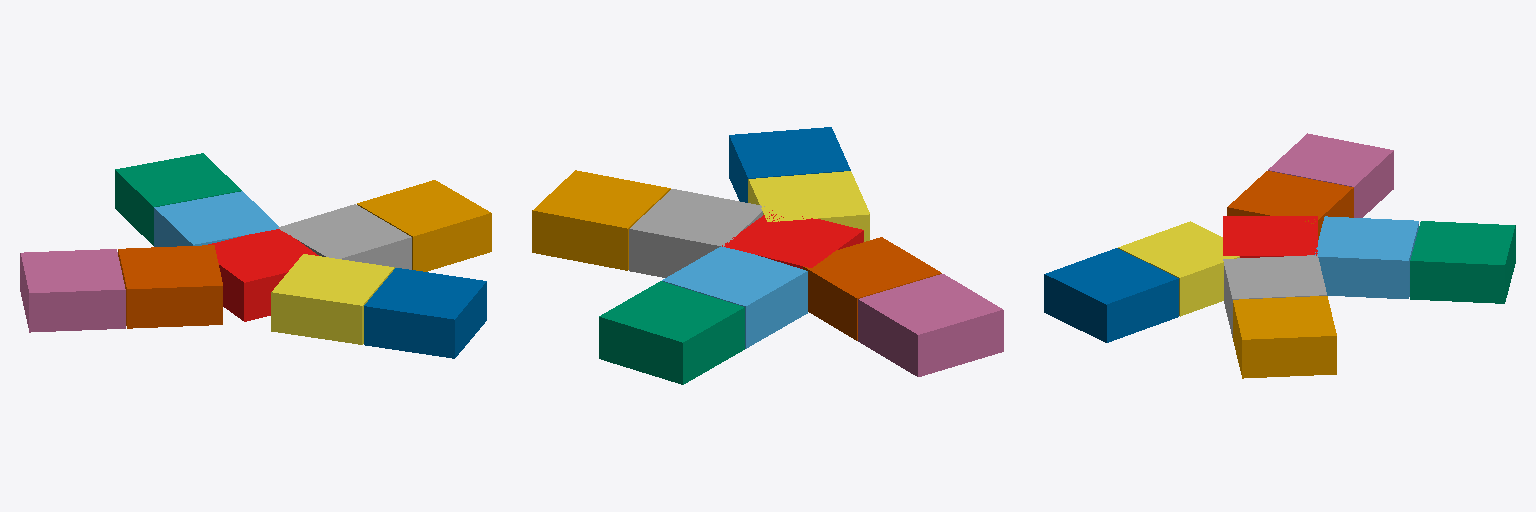
The robot description file, URDF, robot "Model_Models/Model_97.urdf8":
<?xml version='1.0' encoding='UTF-8'?>
<robot name="Model_Models/Model_97.urdf8">
  <link name="base_link">
    <inertial>
      <origin xyz="0.0 0.0 0.0" rpy="0.0 -0.0 0.0"/>
      <mass value="1.0"/>
      <inertia ixx="1.0" ixy="0.0" ixz="0.0" iyy="1.0" iyz="0.0" izz="1.0"/>
    </inertial>
    <visual>
      <geometry>
        <box size="0.67 0.67 0.3 "/>
      </geometry>
      <material name="red"/>
      <origin xyz="0.0 0.0 0.0" rpy="0.0 -0.0 0.0"/>
    </visual>
    <collision>
      <geometry>
        <box size="0.67 0.67 0.3 "/>
      </geometry>
      <origin xyz="0.0 0.0 0.0" rpy="0.0 0.0 0.0"/>
    </collision>
  </link>
  <link name="arm_0_arm1">
    <inertial>
      <origin xyz="0.0 0.34 0.0" rpy="0.0 0.0 0.0"/>
      <mass value="1.0"/>
      <inertia ixx="0.0" ixy="0.0" ixz="0.0" iyy="0.0" iyz="0.0" izz="0.0"/>
    </inertial>
    <visual>
      <geometry>
        <box size="0.67 0.67 0.3 "/>
      </geometry>
      <origin xyz="0.0 0.34 0.0" rpy="0.0 0.0 0.0"/>
    </visual>
    <collision>
      <geometry>
        <box size="0.67 0.67 0.3 "/>
      </geometry>
      <origin xyz="0.0 0.34 0.0" rpy="0.0 0.0 0.0"/>
    </collision>
  </link>
  <link name="arm_0_arm2">
    <inertial>
      <origin xyz="0.0 0.34 0.0" rpy="0.0 0.0 0.0"/>
      <mass value="1.0"/>
      <inertia ixx="0.0" ixy="0.0" ixz="0.0" iyy="0.0" iyz="0.0" izz="0.0"/>
    </inertial>
    <visual>
      <geometry>
        <box size="0.67 0.67 0.3 "/>
      </geometry>
      <origin xyz="0.0 0.34 0.0" rpy="0.0 0.0 0.0"/>
    </visual>
    <collision>
      <geometry>
        <box size="0.67 0.67 0.3 "/>
      </geometry>
      <origin xyz="0.0 0.34 0.0" rpy="0.0 0.0 0.0"/>
    </collision>
  </link>
  <link name="arm_1_arm1">
    <inertial>
      <origin xyz="0.0 0.34 0.0" rpy="0.0 0.0 0.0"/>
      <mass value="1.0"/>
      <inertia ixx="0.0" ixy="0.0" ixz="0.0" iyy="0.0" iyz="0.0" izz="0.0"/>
    </inertial>
    <visual>
      <geometry>
        <box size="0.67 0.67 0.3 "/>
      </geometry>
      <origin xyz="0.0 0.34 0.0" rpy="0.0 0.0 0.0"/>
    </visual>
    <collision>
      <geometry>
        <box size="0.67 0.67 0.3 "/>
      </geometry>
      <origin xyz="0.0 0.34 0.0" rpy="0.0 0.0 0.0"/>
    </collision>
  </link>
  <link name="arm_1_arm2">
    <inertial>
      <origin xyz="0.0 0.34 0.0" rpy="0.0 0.0 0.0"/>
      <mass value="1.0"/>
      <inertia ixx="0.0" ixy="0.0" ixz="0.0" iyy="0.0" iyz="0.0" izz="0.0"/>
    </inertial>
    <visual>
      <geometry>
        <box size="0.67 0.67 0.3 "/>
      </geometry>
      <origin xyz="0.0 0.34 0.0" rpy="0.0 0.0 0.0"/>
    </visual>
    <collision>
      <geometry>
        <box size="0.67 0.67 0.3 "/>
      </geometry>
      <origin xyz="0.0 0.34 0.0" rpy="0.0 0.0 0.0"/>
    </collision>
  </link>
  <link name="arm_3_arm1">
    <inertial>
      <origin xyz="0.0 0.34 0.0" rpy="0.0 0.0 0.0"/>
      <mass value="1.0"/>
      <inertia ixx="0.0" ixy="0.0" ixz="0.0" iyy="0.0" iyz="0.0" izz="0.0"/>
    </inertial>
    <visual>
      <geometry>
        <box size="0.67 0.67 0.3 "/>
      </geometry>
      <origin xyz="0.0 0.34 0.0" rpy="0.0 0.0 0.0"/>
    </visual>
    <collision>
      <geometry>
        <box size="0.67 0.67 0.3 "/>
      </geometry>
      <origin xyz="0.0 0.34 0.0" rpy="0.0 0.0 0.0"/>
    </collision>
  </link>
  <link name="arm_3_arm2">
    <inertial>
      <origin xyz="0.0 0.34 0.0" rpy="0.0 0.0 0.0"/>
      <mass value="1.0"/>
      <inertia ixx="0.0" ixy="0.0" ixz="0.0" iyy="0.0" iyz="0.0" izz="0.0"/>
    </inertial>
    <visual>
      <geometry>
        <box size="0.67 0.67 0.3 "/>
      </geometry>
      <origin xyz="0.0 0.34 0.0" rpy="0.0 0.0 0.0"/>
    </visual>
    <collision>
      <geometry>
        <box size="0.67 0.67 0.3 "/>
      </geometry>
      <origin xyz="0.0 0.34 0.0" rpy="0.0 0.0 0.0"/>
    </collision>
  </link>
  <link name="arm_Permutation_8_arm1">
    <inertial>
      <origin xyz="0.0 0.34 0.0" rpy="0.0 0.0 0.0"/>
      <mass value="1.0"/>
      <inertia ixx="0.0" ixy="0.0" ixz="0.0" iyy="0.0" iyz="0.0" izz="0.0"/>
    </inertial>
    <visual>
      <geometry>
        <box size="0.67 0.67 0.3 "/>
      </geometry>
      <origin xyz="0.0 0.34 0.0" rpy="0.0 0.0 0.0"/>
    </visual>
    <collision>
      <geometry>
        <box size="0.67 0.67 0.3 "/>
      </geometry>
      <origin xyz="0.0 0.34 0.0" rpy="0.0 0.0 0.0"/>
    </collision>
  </link>
  <link name="arm_Permutation_8_arm2">
    <inertial>
      <origin xyz="0.0 0.34 0.0" rpy="0.0 0.0 0.0"/>
      <mass value="1.0"/>
      <inertia ixx="0.0" ixy="0.0" ixz="0.0" iyy="0.0" iyz="0.0" izz="0.0"/>
    </inertial>
    <visual>
      <geometry>
        <box size="0.67 0.67 0.3 "/>
      </geometry>
      <origin xyz="0.0 0.34 0.0" rpy="0.0 0.0 0.0"/>
    </visual>
    <collision>
      <geometry>
        <box size="0.67 0.67 0.3 "/>
      </geometry>
      <origin xyz="0.0 0.34 0.0" rpy="0.0 0.0 0.0"/>
    </collision>
  </link>
  <joint name="arm_0_jointBase" type="fixed">
    <limit effort="1.57" velocity="1.57" lower="-1.57" upper="1.57"/>
    <parent link="base_link"/>
    <child link="arm_0_arm1"/>
    <axis xyz="1. 0. 0."/>
    <origin xyz="0.0 0.34 0.0" rpy="0.0 0.0 -0.11"/>
  </joint>
  <joint name="arm_0_joint1" type="revolute">
    <limit effort="1.57" velocity="1.57" lower="-1.57" upper="1.57"/>
    <parent link="arm_0_arm1"/>
    <child link="arm_0_arm2"/>
    <axis xyz="1. 0. 0."/>
    <origin xyz="0.0 0.68 0.0" rpy="0.0 0.0 0.0"/>
  </joint>
  <joint name="arm_1_jointBase" type="fixed">
    <limit effort="1.57" velocity="1.57" lower="-1.57" upper="1.57"/>
    <parent link="base_link"/>
    <child link="arm_1_arm1"/>
    <axis xyz="1. 0. 0."/>
    <origin xyz="0.0 -0.34 0.0" rpy="0.0 0.0 -2.4331853071795866"/>
  </joint>
  <joint name="arm_1_joint1" type="revolute">
    <limit effort="1.57" velocity="1.57" lower="-1.57" upper="1.57"/>
    <parent link="arm_1_arm1"/>
    <child link="arm_1_arm2"/>
    <axis xyz="1. 0. 0."/>
    <origin xyz="0.0 0.68 0.0" rpy="0.0 0.0 0.0"/>
  </joint>
  <joint name="arm_3_jointBase" type="fixed">
    <limit effort="1.57" velocity="1.57" lower="-1.57" upper="1.57"/>
    <parent link="base_link"/>
    <child link="arm_3_arm1"/>
    <axis xyz="1. 0. 0."/>
    <origin xyz="-0.34 0.0 0.0" rpy="0.0 0.0 1.14"/>
  </joint>
  <joint name="arm_3_joint1" type="revolute">
    <limit effort="1.57" velocity="1.57" lower="-1.57" upper="1.57"/>
    <parent link="arm_3_arm1"/>
    <child link="arm_3_arm2"/>
    <axis xyz="1. 0. 0."/>
    <origin xyz="0.0 0.68 0.0" rpy="0.0 0.0 0.0"/>
  </joint>
  <joint name="arm_Permutation_8_jointBase" type="fixed">
    <limit effort="1.57" velocity="1.57" lower="-1.57" upper="1.57"/>
    <parent link="base_link"/>
    <child link="arm_Permutation_8_arm1"/>
    <axis xyz="1. 0. 0."/>
    <origin xyz="0.34 0.0 0.0" rpy="0.0 0.0 -1.47"/>
  </joint>
  <joint name="arm_Permutation_8_joint1" type="revolute">
    <limit effort="1.57" velocity="1.57" lower="-1.57" upper="1.57"/>
    <parent link="arm_Permutation_8_arm1"/>
    <child link="arm_Permutation_8_arm2"/>
    <axis xyz="1. 0. 0."/>
    <origin xyz="0.0 0.68 0.0" rpy="0.0 0.0 0.0"/>
  </joint>
  <material name="red">
    <color rgba="0.969 0.129 0.122 1.   "/>
  </material>
</robot>

--- What the picture shows (computed from the rendered views, not written in the file) ---
Views: 3 orthographic renders of the robot side by side, from view 1: azimuth 30°, elevation 25°; view 2: azimuth 150°, elevation 25°; view 3: azimuth 270°, elevation 25°.
Model Model_Models/Model_97.urdf8 with 9 links and 8 joints (4 revolute, 4 fixed), rooted at base_link, posed every joint at zero.
Links seen in each view (by area): view 1: arm_1_arm2, arm_3_arm2, arm_3_arm1, arm_1_arm1, arm_Permutation_8_arm2, arm_0_arm2, base_link, arm_Permutation_8_arm1, arm_0_arm1; view 2: arm_0_arm2, arm_3_arm2, arm_Permutation_8_arm2, arm_Permutation_8_arm1, arm_0_arm1, arm_3_arm1, arm_1_arm2, arm_1_arm1, base_link; view 3: arm_1_arm2, arm_0_arm2, arm_Permutation_8_arm2, arm_0_arm1, arm_3_arm2, arm_1_arm1, arm_3_arm1, arm_Permutation_8_arm1, base_link.
Boxes of the visible links, x1,y1,x2,y2 form: arm_1_arm2: (364,268,486,358); arm_3_arm2: (20,249,125,332); arm_3_arm1: (118,245,222,328); arm_1_arm1: (271,254,394,344); arm_Permutation_8_arm2: (357,180,491,271); arm_0_arm2: (115,153,241,245); base_link: (208,229,318,321); arm_Permutation_8_arm1: (278,204,411,269); arm_0_arm1: (154,191,278,246); arm_0_arm2: (599,281,744,384); arm_3_arm2: (858,274,1003,376); arm_Permutation_8_arm2: (532,170,670,270); arm_Permutation_8_arm1: (629,189,764,277); arm_0_arm1: (662,246,807,348); arm_3_arm1: (803,237,941,340); arm_1_arm2: (729,127,850,202); arm_1_arm1: (748,171,869,241); base_link: (722,210,863,268); arm_1_arm2: (1044,248,1178,342); arm_0_arm2: (1410,221,1515,303); arm_Permutation_8_arm2: (1233,296,1336,378); arm_0_arm1: (1314,216,1418,298); arm_3_arm2: (1268,133,1393,217); arm_1_arm1: (1118,221,1239,316); arm_3_arm1: (1227,171,1353,239); arm_Permutation_8_arm1: (1223,255,1326,337); base_link: (1223,216,1317,257).
Size in the robot's own frame: 3.43 by 3.31 by 0.3 metres.
Geometry: primitives only (box / cylinder / sphere), no mesh files.